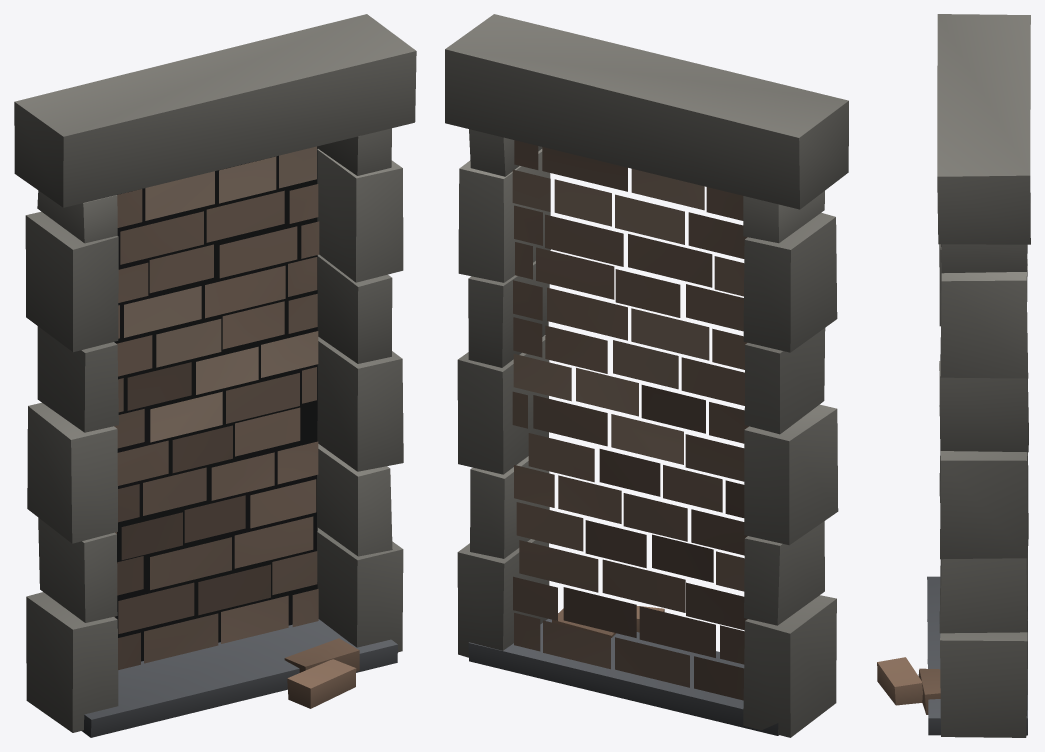
The model's file is ph_int_sealed_passage.glb.
The picture shows the model from 3 angles, left to right: view 1: azimuth 30°, elevation 25°; view 2: azimuth 150°, elevation 25°; view 3: azimuth 270°, elevation 25°; orthographic projection. The views are drawn at different scales.
Visible parts, largest first — view 1: ph_int_sealed_passage; view 2: ph_int_sealed_passage; view 3: ph_int_sealed_passage.
Boxes of the visible parts, bbox=[...] form: ph_int_sealed_passage: bbox=[14, 14, 416, 737]; ph_int_sealed_passage: bbox=[445, 14, 848, 737]; ph_int_sealed_passage: bbox=[877, 14, 1030, 737].
Bounding box in the file's own units: 1.24 × 2.03 × 0.4952.
